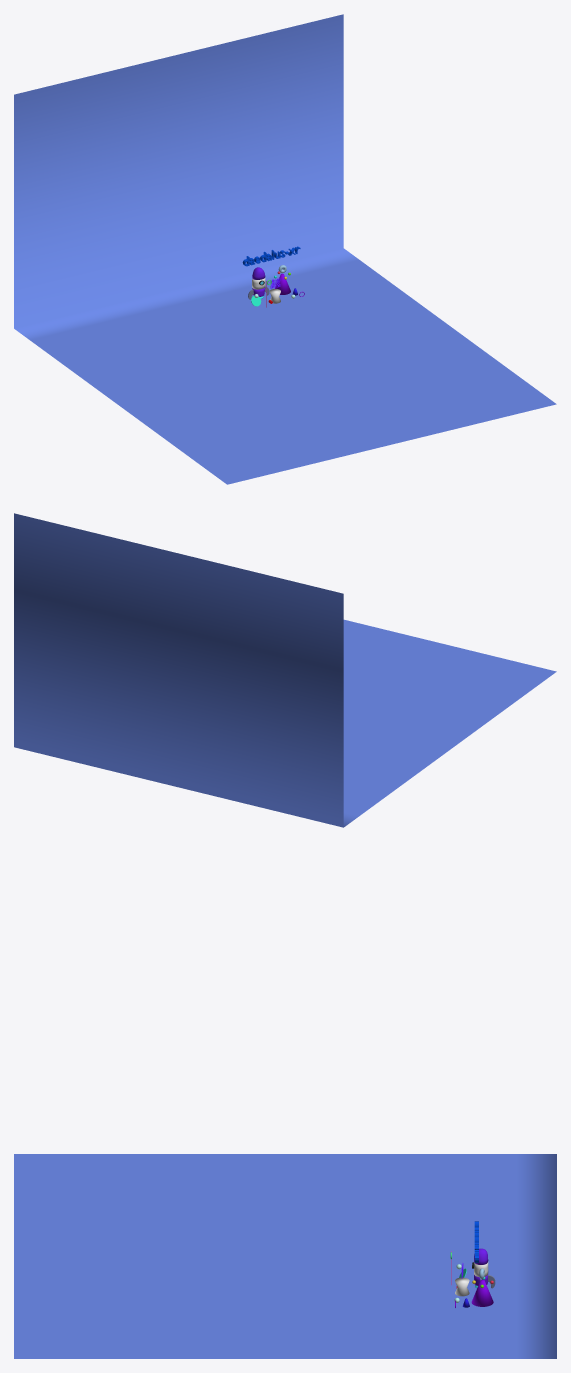
3 renders of one model, top to bottom at view 1: azimuth 30°, elevation 25°; view 2: azimuth 150°, elevation 25°; view 3: azimuth 270°, elevation 25°, orthographic. The views are drawn at different scales.
Parts seen in each view (by area): view 1: Plane; view 2: Plane; view 3: Plane.
Part boxes in pixels (x1,y1,x2,y2): Plane: (14, 14, 556, 484); Plane: (14, 513, 556, 827); Plane: (14, 1154, 556, 1358).
Bounding box in the file's own units: 184 × 126 × 206.
